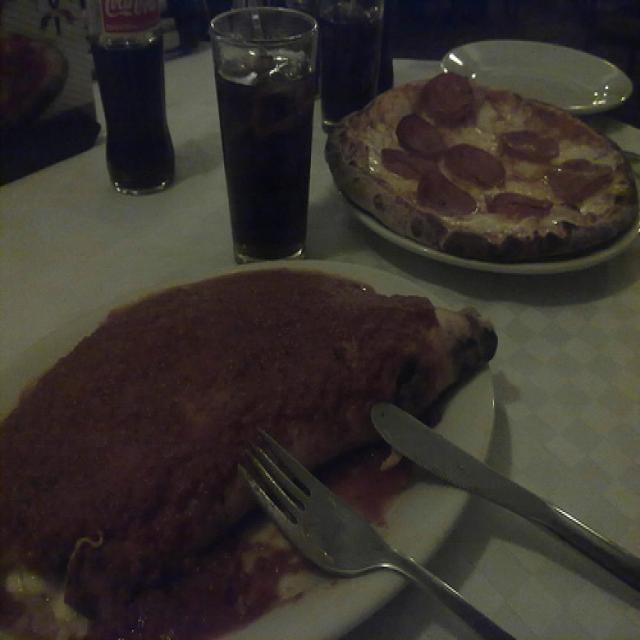Bottle: (76, 0, 171, 236)
Cup: (204, 2, 335, 272), (322, 0, 388, 130)
Table: (0, 62, 640, 640)
